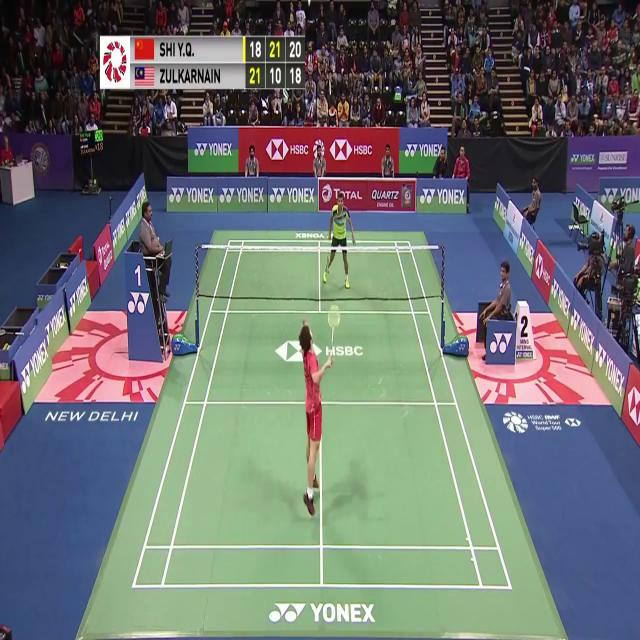Shuttlecock: (305, 0, 311, 8)
